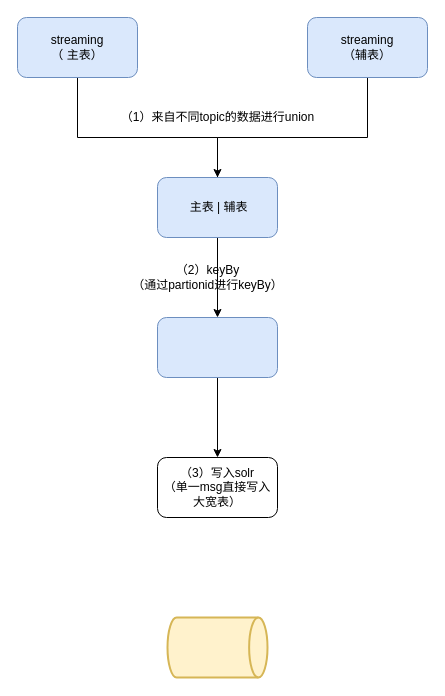
The diagram is 445 pixels wide and 696 high, and some of its shapes have lost their labels. The shapes that lost their labels are listed below. From the top down, each one's centre as x and y in pixels, then its label:
the point at 217,347: 主表 | 辅表 （keyBy后）
the point at 217,647: solr（宽表collection）
